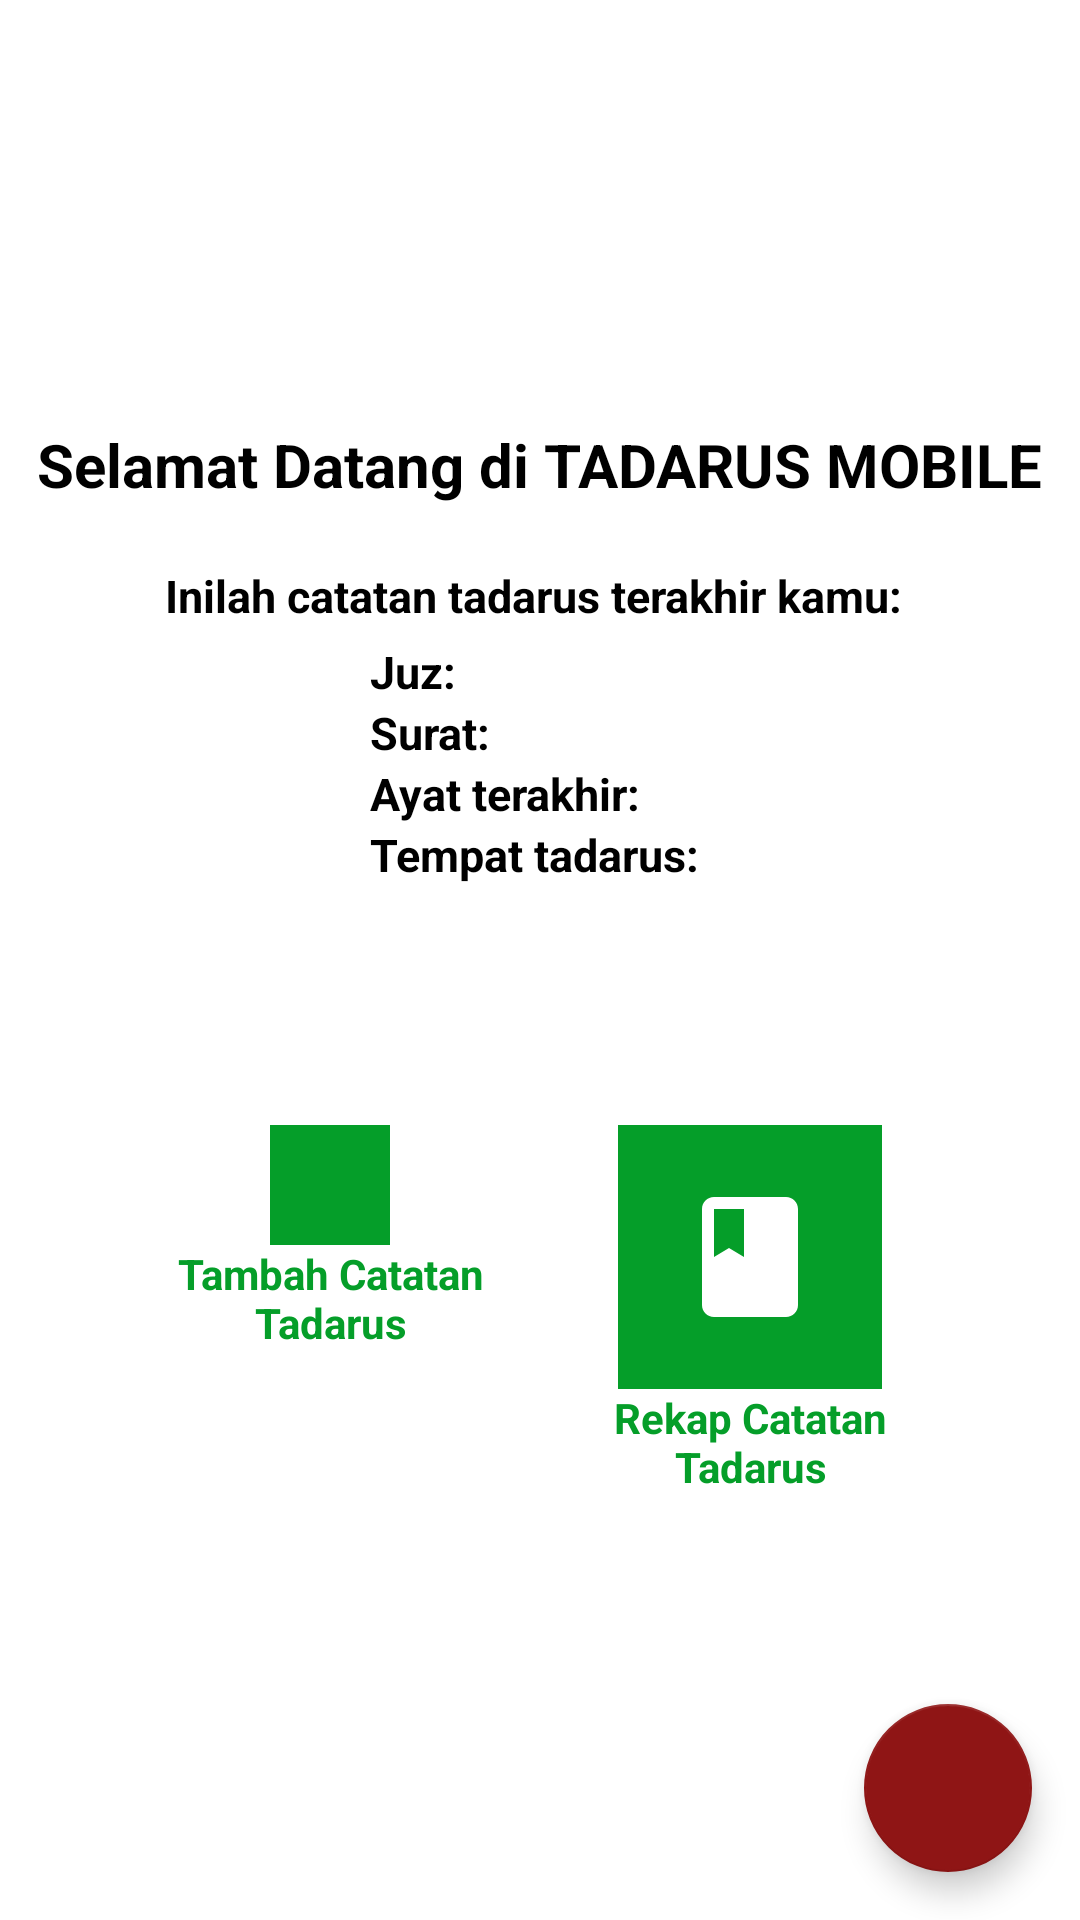

Screen size 1080px×1920px. Icon name, then its center in pixels as point (x, y):
book: point (750, 1257)
